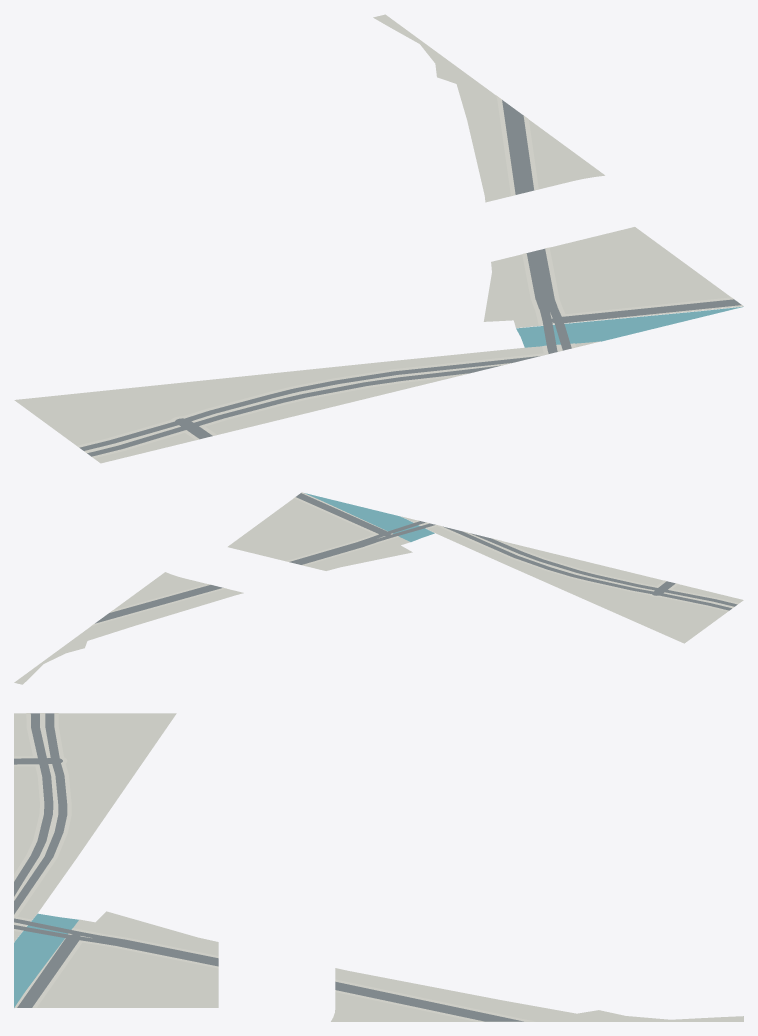
3 views of the same model, one above another, from view 1: azimuth 30°, elevation 25°; view 2: azimuth 150°, elevation 25°; view 3: azimuth 270°, elevation 25° (orthographic). The views are drawn at different scales.
Visible parts, largest first — view 1: city; view 2: city; view 3: city.
Boxes of the visible parts, x1=… form: city: x1=14, y1=14, x2=743, y2=463; city: x1=14, y1=492, x2=743, y2=684; city: x1=14, y1=713, x2=743, y2=1021.
Bounding box in the file's own units: 500 × 0.4 × 500.
